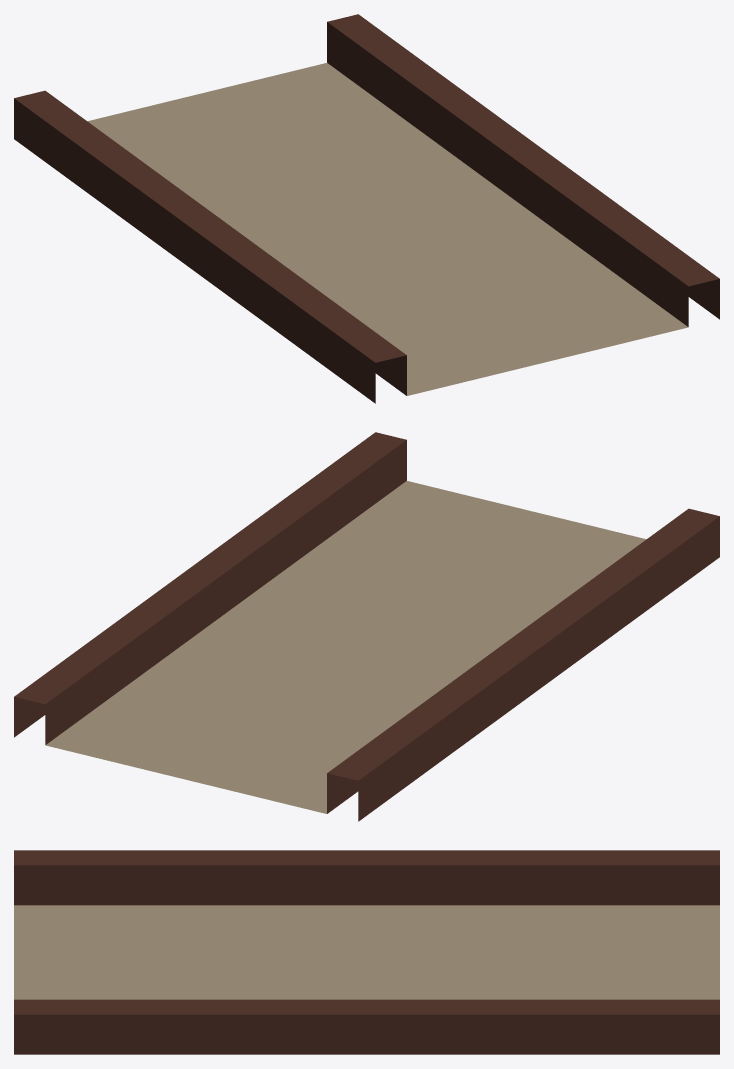
The model's file is M_PathStraight.fbx.
The picture shows the model from 3 angles, top to bottom: view 1: azimuth 30°, elevation 25°; view 2: azimuth 150°, elevation 25°; view 3: azimuth 270°, elevation 25°; orthographic projection. The views are drawn at different scales.
Parts seen in each view (by area): view 1: pPlane3; view 2: pPlane3; view 3: pPlane3.
Boxes of the visible parts, left/top/right/bottom form: pPlane3: left=14, top=14, right=719, bottom=403; pPlane3: left=14, top=432, right=719, bottom=821; pPlane3: left=14, top=850, right=719, bottom=1054.
Bounding box in the file's own units: 110 × 12.5 × 200.
